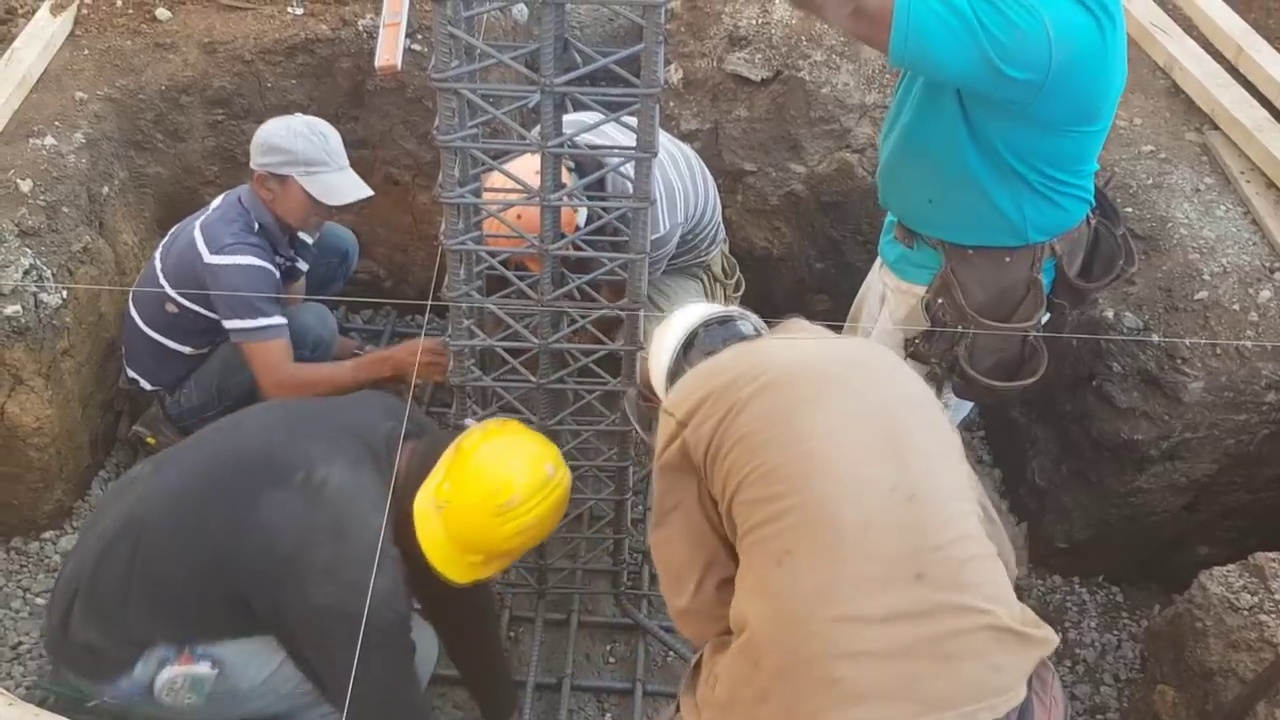helmet: (409, 414, 577, 587), (478, 152, 576, 273), (648, 302, 769, 396)
helmet-off: (242, 110, 375, 244)
helmet-on: (381, 411, 579, 590), (478, 131, 613, 280), (642, 299, 781, 405)
person: (636, 294, 1071, 719), (42, 388, 585, 712), (793, 2, 1144, 435), (112, 111, 448, 446), (476, 102, 748, 371)
